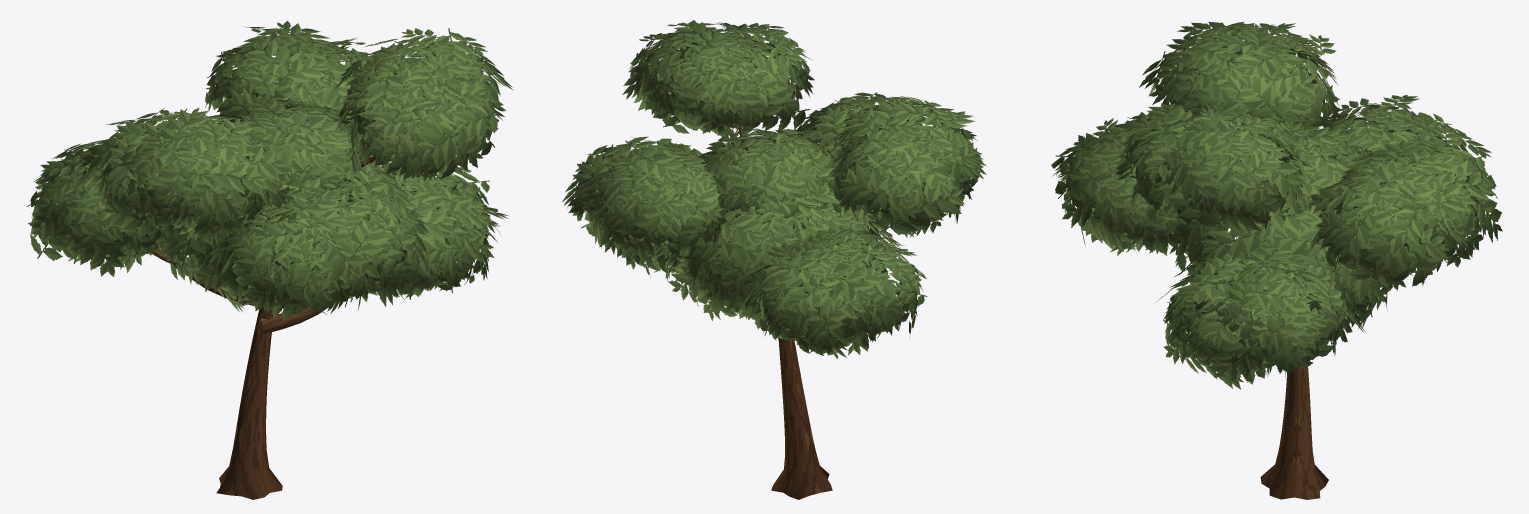
File: oak_sweeping.glb
The picture shows the model from 3 angles, left to right: view 1: azimuth 30°, elevation 25°; view 2: azimuth 150°, elevation 25°; view 3: azimuth 270°, elevation 25°; orthographic projection. The views are drawn at different scales.
Parts seen in each view (by area): view 1: oak_sweeping; view 2: oak_sweeping; view 3: oak_sweeping.
Boxes of the visible parts, <box> form: oak_sweeping: <box>27,20,513,499</box>; oak_sweeping: <box>562,20,986,499</box>; oak_sweeping: <box>1051,21,1502,499</box>.
Bounding box in the file's own units: 11.47 × 11.46 × 11.21.
Materials: 2 (2 with a texture image).
